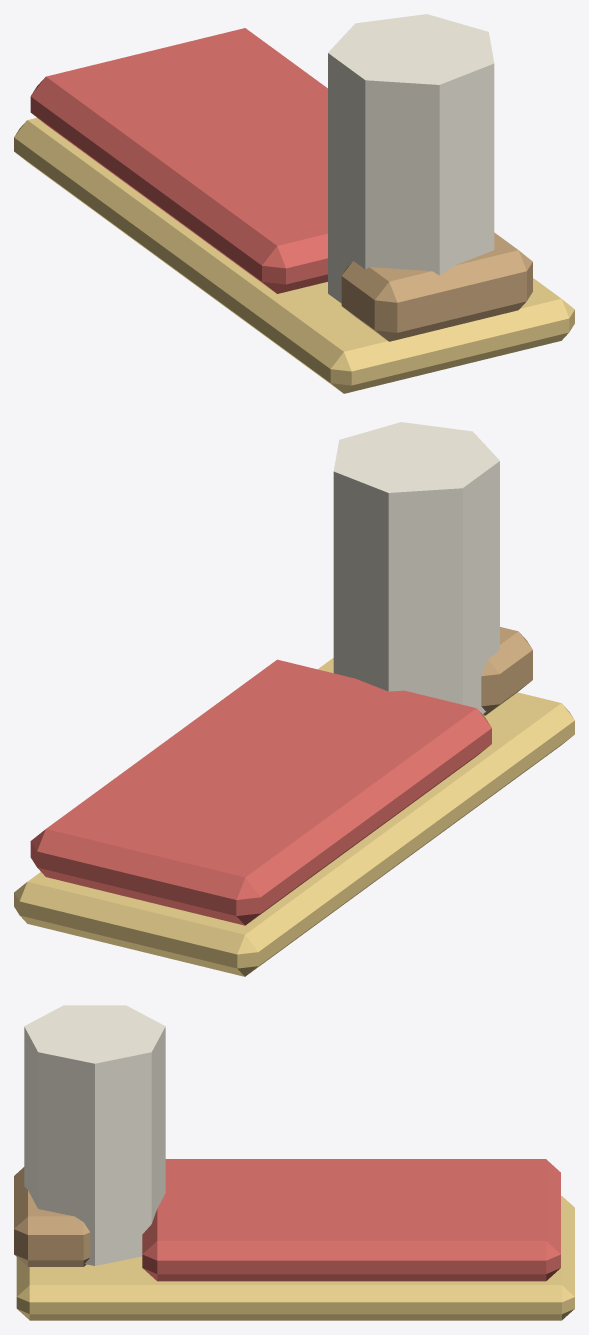
File: bedroll.glb
3 views of the same model, one above another, from view 1: azimuth 30°, elevation 25°; view 2: azimuth 150°, elevation 25°; view 3: azimuth 270°, elevation 25° (orthographic). The views are drawn at different scales.
Parts seen in each view (by area): view 1: bedroll; view 2: bedroll; view 3: bedroll.
Part boxes in pixels (x1,y1,x2,y2): bedroll: [14, 14, 574, 393]; bedroll: [14, 422, 574, 976]; bedroll: [14, 1005, 574, 1320].
Bounding box in the file's own units: 0.8499 × 0.9599 × 2.01.
